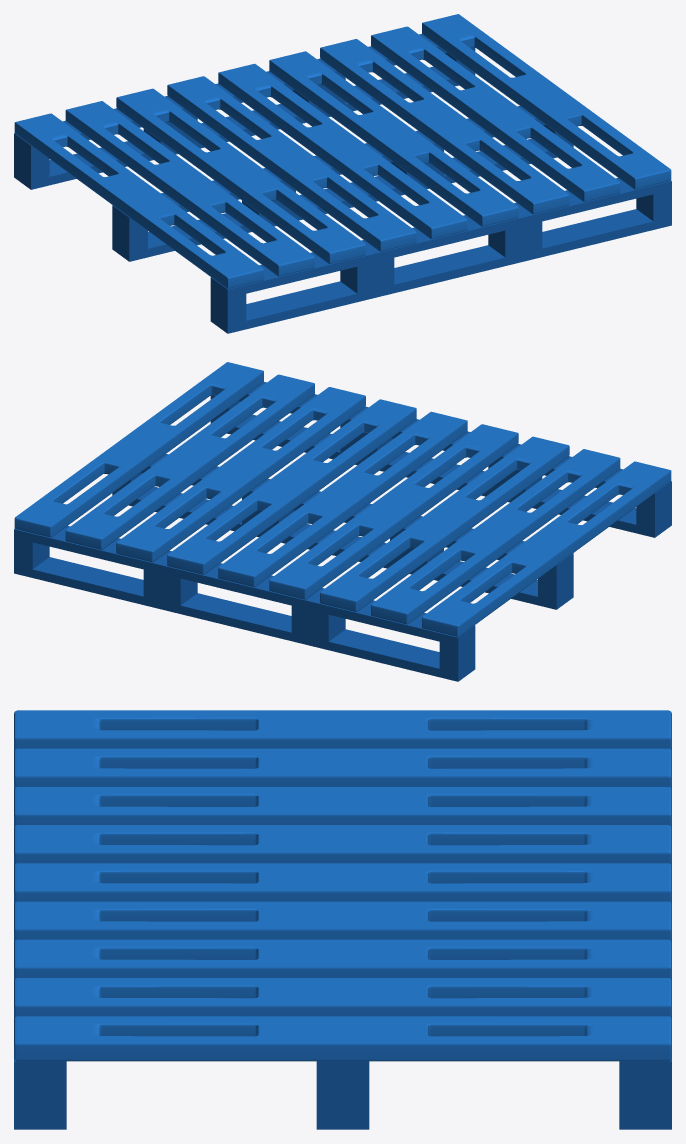
Rendered from pallet_steel.glb.
3 views of the same model, one above another, from view 1: azimuth 30°, elevation 25°; view 2: azimuth 150°, elevation 25°; view 3: azimuth 270°, elevation 25° (orthographic). The views are drawn at different scales.
Parts seen in each view (by area): view 1: pallet_geo; view 2: pallet_geo; view 3: pallet_geo.
Boxes of the visible parts, x1,y1,x2,y2 form: pallet_geo: (14, 14, 671, 333); pallet_geo: (14, 362, 671, 681); pallet_geo: (14, 710, 671, 1129).
Size of the model in its own units: 1.2 by 0.144 by 1.
